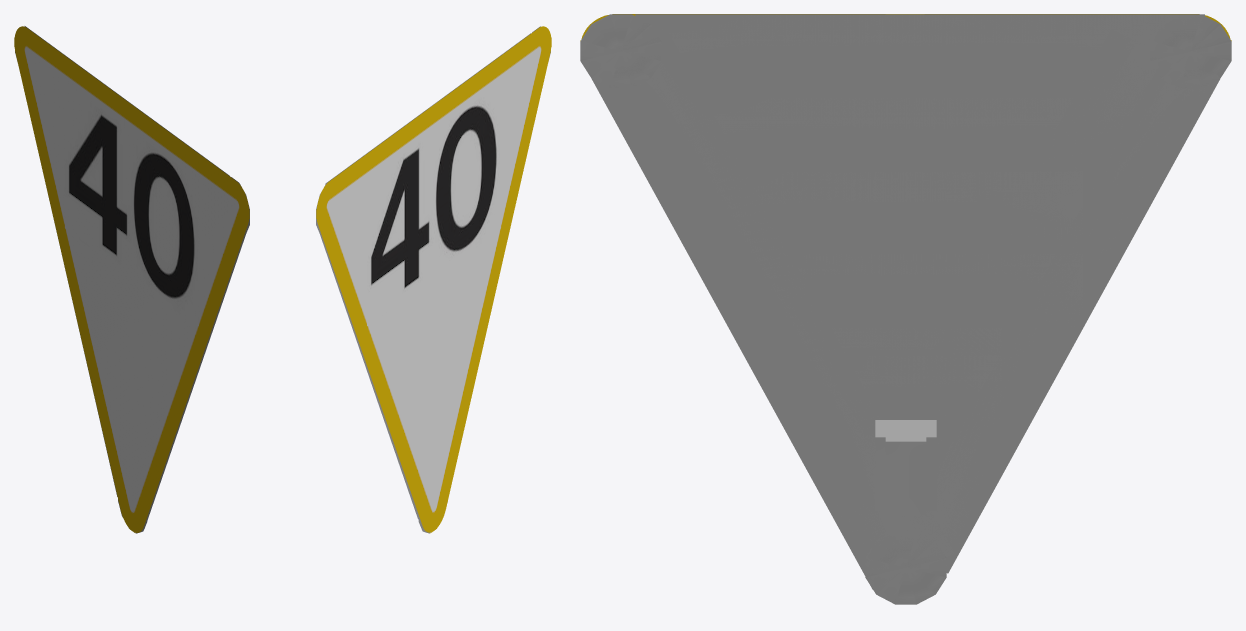
File: permissible_speed_40.obj
3 views of the same model, side by side, from view 1: azimuth 30°, elevation 25°; view 2: azimuth 150°, elevation 25°; view 3: azimuth 270°, elevation 25° (orthographic). The views are drawn at different scales.
Parts seen in each view (by area): view 1: cube; view 2: cube; view 3: cube, circle.
Part boxes in pixels (x1,y1,x2,y2): cube: (14, 26, 249, 533); cube: (316, 26, 551, 533); cube: (580, 14, 1231, 589); circle: (580, 14, 1231, 604).
Size of the model in its own units: 0.0797 by 1 by 1.
Materials: 2 (2 with a texture image).
